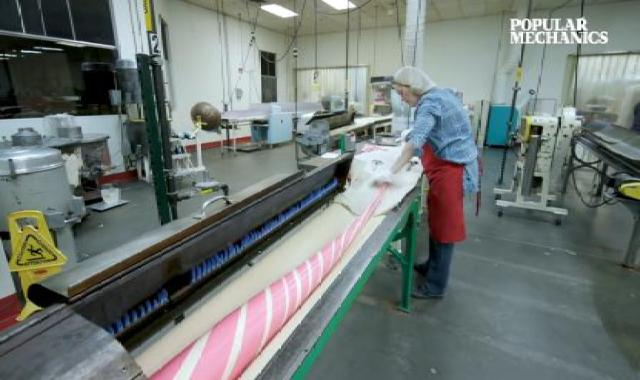hairnet: (379, 65, 438, 101)
